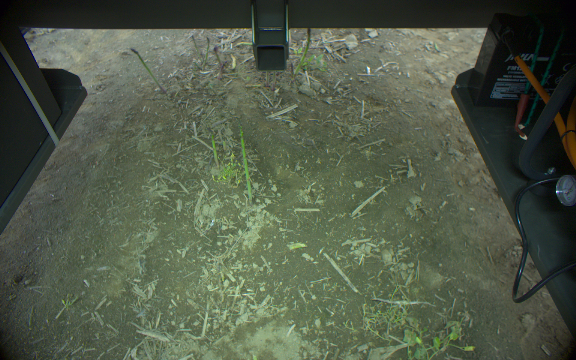aspa: (130, 47, 164, 95), (291, 26, 314, 80), (237, 123, 252, 204), (206, 127, 220, 168), (190, 35, 204, 63), (212, 42, 222, 78), (203, 35, 210, 70), (288, 58, 296, 81), (272, 69, 277, 92), (264, 71, 270, 88)
